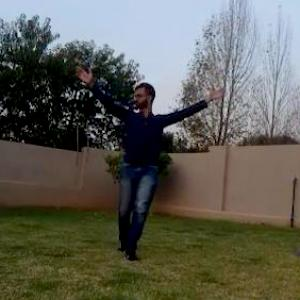takeoff: (67, 58, 223, 255)
